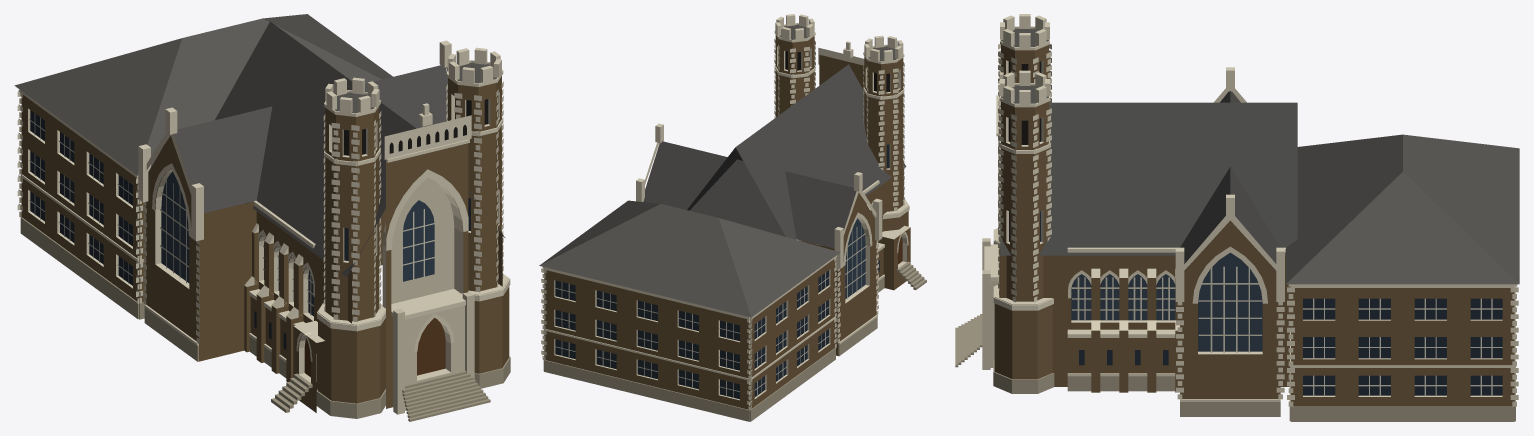
File: first-presbyterian-church-1921.glb
The picture shows the model from 3 angles, left to right: view 1: azimuth 30°, elevation 25°; view 2: azimuth 150°, elevation 25°; view 3: azimuth 270°, elevation 25°; orthographic projection. The views are drawn at different scales.
Visible parts, largest first — view 1: first_brick, first_trim, first_slate, first_roof, first_base, first_stone, first_stain, first_glass, first_door, first_lead, first_shadow, first_sash; view 2: first_brick, first_slate, first_roof, first_trim, first_glass, first_base, first_sash, first_stain, first_lead; view 3: first_brick, first_slate, first_roof, first_trim, first_base, first_glass, first_stain, first_lead, first_sash, first_stone.
Boxes of the visible parts, x1,y1,x2,y2 form: first_brick: (21,76,509,412); first_trim: (17,40,510,382); first_slate: (174,21,505,276); first_roof: (14,14,496,175); first_base: (20,217,510,421); first_stone: (391,177,474,414); first_stain: (161,171,434,316); first_glass: (30,110,470,349); first_door: (304,318,445,377); first_lead: (160,178,434,315); first_shadow: (343,99,488,155); first_sash: (29,113,132,283); first_brick: (544,35,910,409); first_slate: (643,64,906,248); first_roof: (539,24,896,317); first_trim: (541,14,910,410); first_glass: (555,144,889,399); first_base: (543,244,926,421); first_sash: (555,272,829,398); first_stain: (845,212,872,299); first_lead: (845,213,872,299); first_brick: (994,45,1514,406); first_slate: (1000,91,1297,271); first_roof: (1001,28,1519,284); first_trim: (984,14,1518,406); first_base: (955,292,1515,421); first_glass: (1009,211,1502,395); first_stain: (1071,252,1262,351); first_lead: (1072,266,1261,352); first_sash: (1303,298,1502,396); first_stone: (982,238,999,369).
Bounding box in the file's own units: 24.9 × 25.55 × 43.7.
